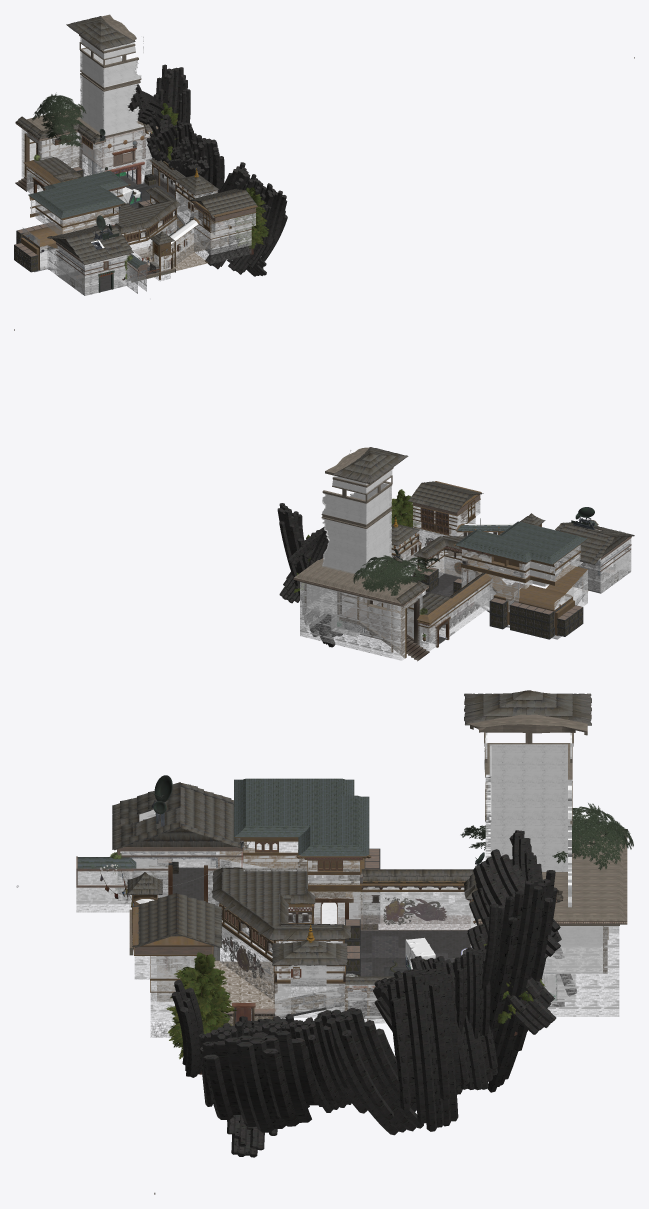
The model's file is haven.glb.
3 renders of one model, top to bottom at view 1: azimuth 30°, elevation 25°; view 2: azimuth 150°, elevation 25°; view 3: azimuth 270°, elevation 25°, orthographic. The views are drawn at different scales.
Parts seen in each view (by area): view 1: StaticMeshActor_50faa2dc, StaticMeshActor_3945f0b1, StaticMeshActor_1ecae885, StaticMeshActor_03e387a3, StaticMeshActor_df8ea700, StaticMeshActor_e6b75622, StaticMeshActor_0d07fd8c, StaticMeshActor_8be9efdq, StaticMeshActor_c1dada04, StaticMeshActor_a958ad83, StaticMeshActor_b75d76ba, Shell_15_CSite (+32 smaller); view 2: StaticMeshActor_a958ad83, StaticMeshActor_50faa2dc, StaticMeshActor_3945f0b1, StaticMeshActor_2db6b789, StaticMeshActor_2c986ac0, StaticMeshActor_39ff9cb1, StaticMeshActor_8be9efdq, StaticMeshActor_a85586e4, StaticMeshActor_08561951, StaticMeshActor_a0a39b01, StaticMeshActor_0d07fd8c, StaticMeshActor_350d0e2d (+23 smaller); view 3: StaticMeshActor_ff6f6fed, StaticMeshActor_3945f0b1, StaticMeshActor_0b4446fa, StaticMeshActor_c45d7bda, StaticMeshActor_08561951, StaticMeshActor_0d07fd8c, StaticMeshActor_a958ad83, StaticMeshActor_959163fb, StaticMeshActor_c1dada04, StaticMeshActor_39ff9cb1, StaticMeshActor_2c986ac0, StaticMeshActor_17b45117 (+35 smaller).
Boxes of the visible parts, <box> form: StaticMeshActor_50faa2dc: <box>80,50,144,137</box>; StaticMeshActor_3945f0b1: <box>28,171,128,218</box>; StaticMeshActor_1ecae885: <box>79,128,152,183</box>; StaticMeshActor_03e387a3: <box>194,216,252,263</box>; StaticMeshActor_df8ea700: <box>56,242,130,295</box>; StaticMeshActor_e6b75622: <box>102,60,143,135</box>; StaticMeshActor_0d07fd8c: <box>47,225,133,264</box>; StaticMeshActor_8be9efdq: <box>32,92,86,146</box>; StaticMeshActor_c1dada04: <box>99,187,180,233</box>; StaticMeshActor_a958ad83: <box>21,128,151,190</box>; StaticMeshActor_b75d76ba: <box>35,201,120,234</box>; Shell_15_CSite: <box>192,201,257,235</box>; StaticMeshActor_a958ad83: <box>299,581,422,660</box>; StaticMeshActor_50faa2dc: <box>321,482,392,576</box>; StaticMeshActor_3945f0b1: <box>455,521,587,564</box>; StaticMeshActor_2db6b789: <box>322,493,366,573</box>; StaticMeshActor_2c986ac0: <box>417,573,493,651</box>; StaticMeshActor_39ff9cb1: <box>293,558,428,606</box>; StaticMeshActor_8be9efdq: <box>353,555,439,595</box>; StaticMeshActor_a85586e4: <box>339,592,406,658</box>; StaticMeshActor_08561951: <box>277,503,335,647</box>; StaticMeshActor_a0a39b01: <box>461,553,554,612</box>; StaticMeshActor_0d07fd8c: <box>555,522,634,564</box>; StaticMeshActor_350d0e2d: <box>459,547,555,580</box>; StaticMeshActor_ff6f6fed: <box>387,961,461,1131</box>; StaticMeshActor_3945f0b1: <box>234,778,369,857</box>; StaticMeshActor_0b4446fa: <box>202,1030,321,1132</box>; StaticMeshActor_c45d7bda: <box>489,744,567,871</box>; StaticMeshActor_08561951: <box>487,870,557,1092</box>; StaticMeshActor_0d07fd8c: <box>112,782,248,850</box>; StaticMeshActor_a958ad83: <box>541,924,619,1016</box>; StaticMeshActor_959163fb: <box>317,1008,423,1135</box>; StaticMeshActor_c1dada04: <box>211,867,351,940</box>; StaticMeshActor_39ff9cb1: <box>478,831,627,924</box>; StaticMeshActor_2c986ac0: <box>352,870,475,930</box>; StaticMeshActor_17b45117: <box>282,930,564,1018</box>.
Size of the model in its own units: 152 by 55.89 by 79.22.
146 materials, 141 textured.
